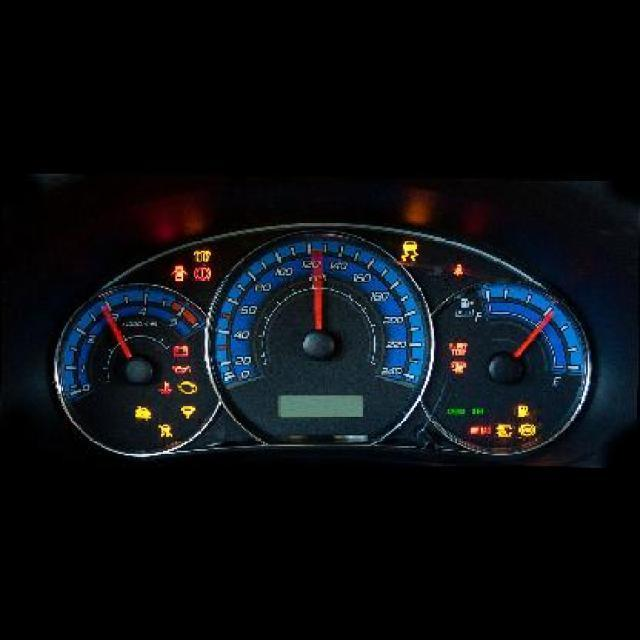High Engine Coolant Temperature: (160, 379, 172, 393)
Seat Belt: (453, 262, 464, 276)
